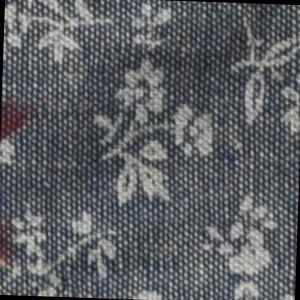Stain: (1, 94, 44, 149), (1, 211, 20, 275)
